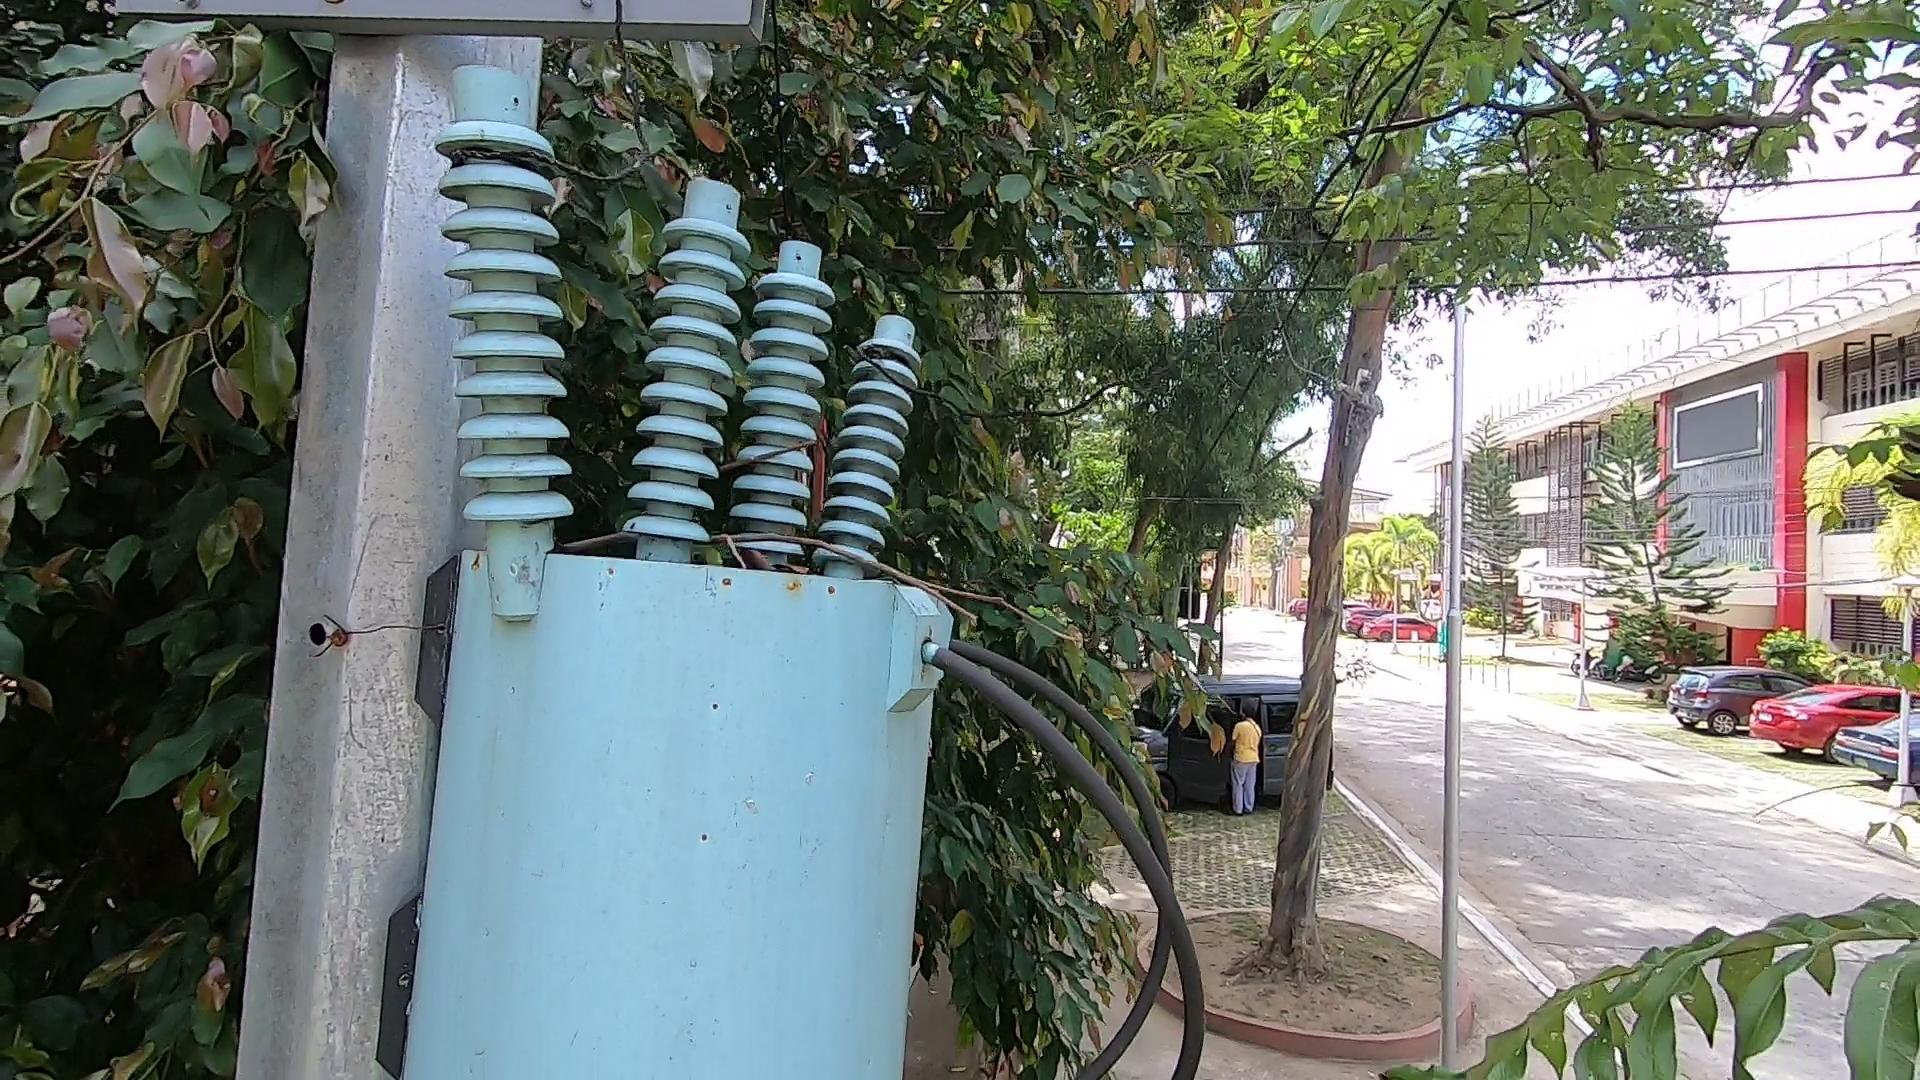leaf: (723, 537, 806, 585)
tree branch: (542, 493, 1088, 680)
